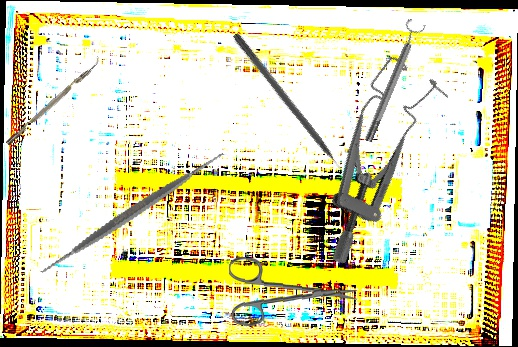Chopper: (1, 54, 104, 146)
Fixation Ring: (357, 18, 428, 145)
Iris Scissors: (226, 256, 359, 332)
Pusher: (230, 32, 353, 184)
Spatula Surgical: (30, 109, 235, 317)
Speculum: (273, 50, 466, 268)
